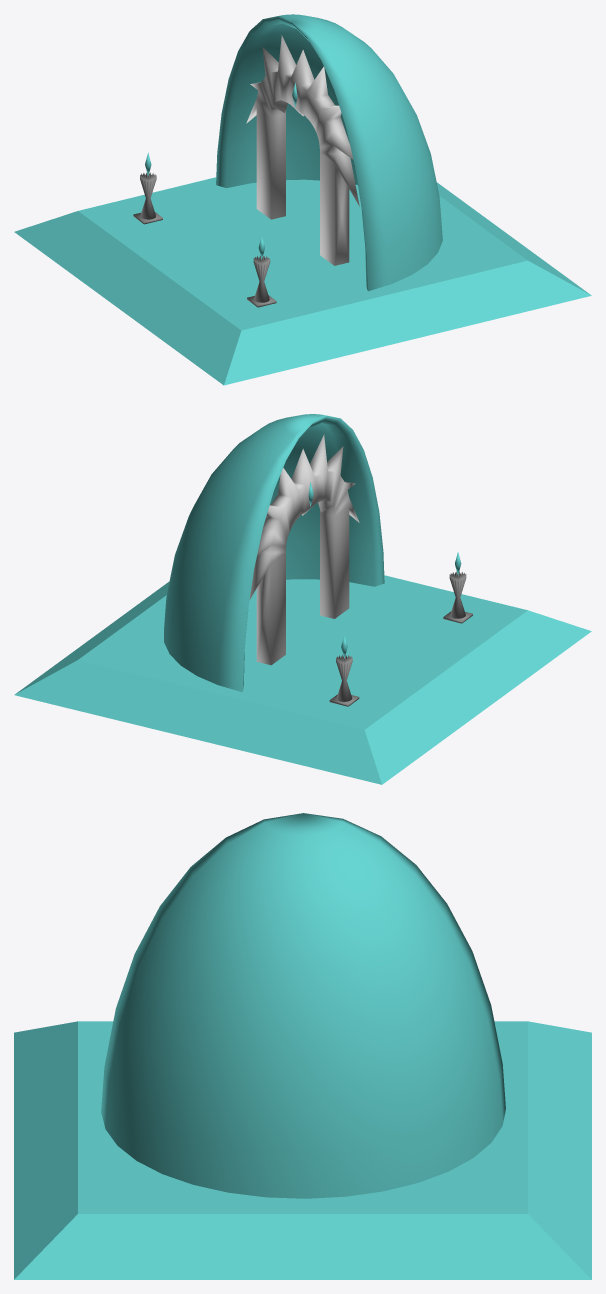
The model's file is PortalGatewayShrine.fbx.
3 views of the same model, one above another, from view 1: azimuth 30°, elevation 25°; view 2: azimuth 150°, elevation 25°; view 3: azimuth 270°, elevation 25° (orthographic). The views are drawn at different scales.
Parts seen in each view (by area): view 1: Sphere; view 2: Sphere; view 3: Sphere.
Part boxes in pixels (x1,y1,x2,y2): Sphere: (14, 14, 591, 385); Sphere: (14, 414, 591, 784); Sphere: (14, 813, 591, 1279).
Size of the model in its own units: 2921 by 1851 by 2886.
